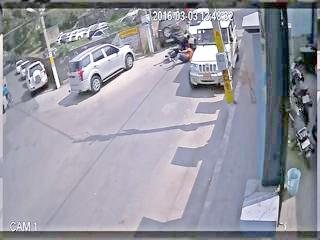Car: (189, 20, 238, 87), (70, 46, 133, 90), (187, 15, 213, 44), (157, 19, 181, 45), (27, 64, 48, 93), (90, 29, 109, 40), (74, 28, 90, 40), (19, 61, 29, 78), (64, 32, 77, 43), (15, 60, 25, 74), (56, 33, 68, 44)
Minor Accident: (179, 23, 203, 57)
Motor: (165, 46, 191, 67)
